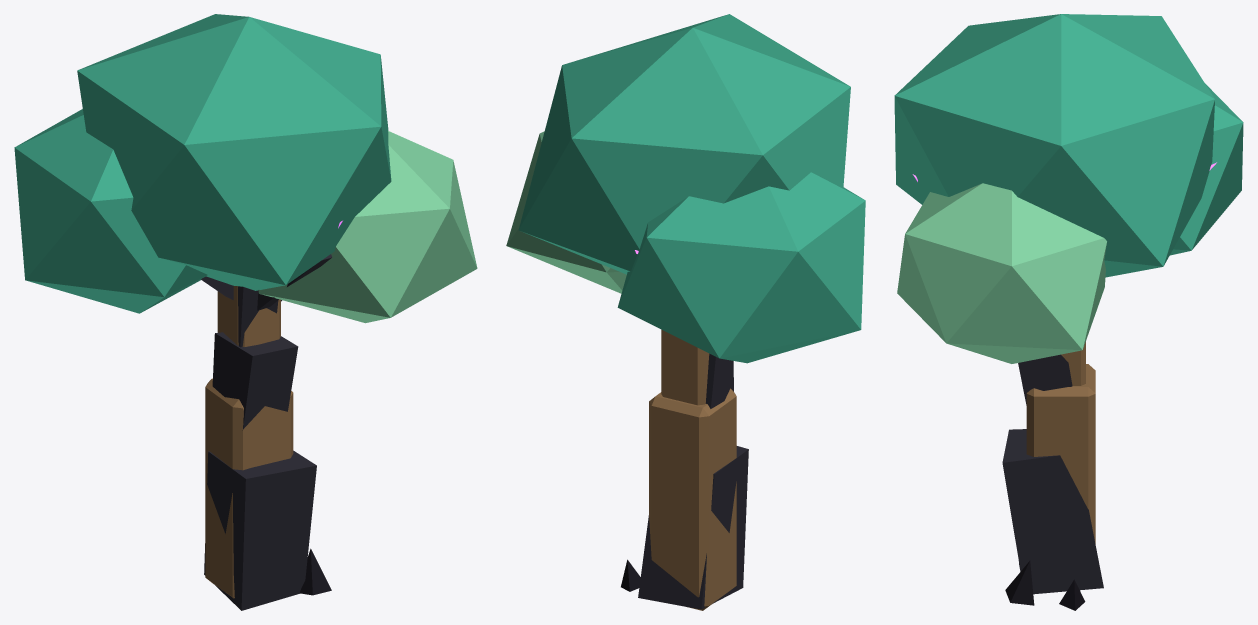
File: tree.glb
The picture shows the model from 3 angles, left to right: view 1: azimuth 30°, elevation 25°; view 2: azimuth 150°, elevation 25°; view 3: azimuth 270°, elevation 25°; orthographic projection.
Visible parts, largest first — view 1: tree_restored, tree_corrupted; view 2: tree_restored, tree_corrupted; view 3: tree_restored, tree_corrupted.
Part boxes in pixels (<box>): tree_restored: <box>14,14,477,598</box>; tree_corrupted: <box>201,220,342,610</box>; tree_restored: <box>506,14,865,610</box>; tree_corrupted: <box>621,250,748,609</box>; tree_restored: <box>894,14,1243,543</box>; tree_corrupted: <box>912,162,1216,610</box>.
Size of the model in its own units: 1.73 by 2.53 by 1.41.
